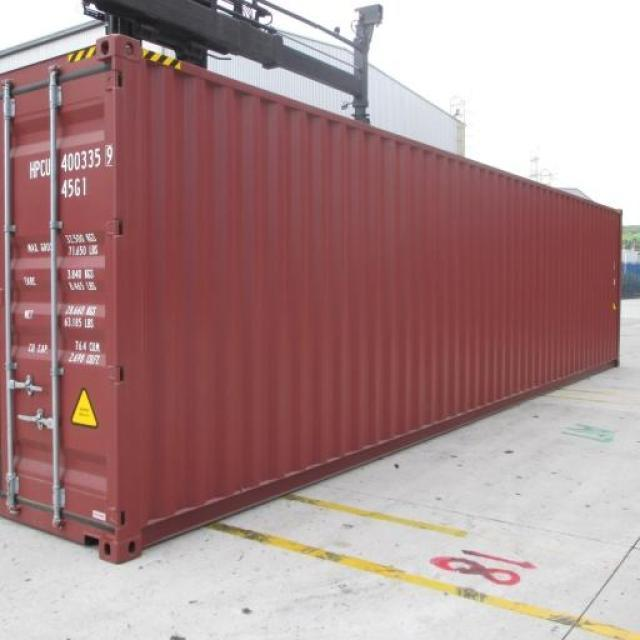ISO: (61, 174, 95, 198)
container_number: (24, 142, 111, 181)
